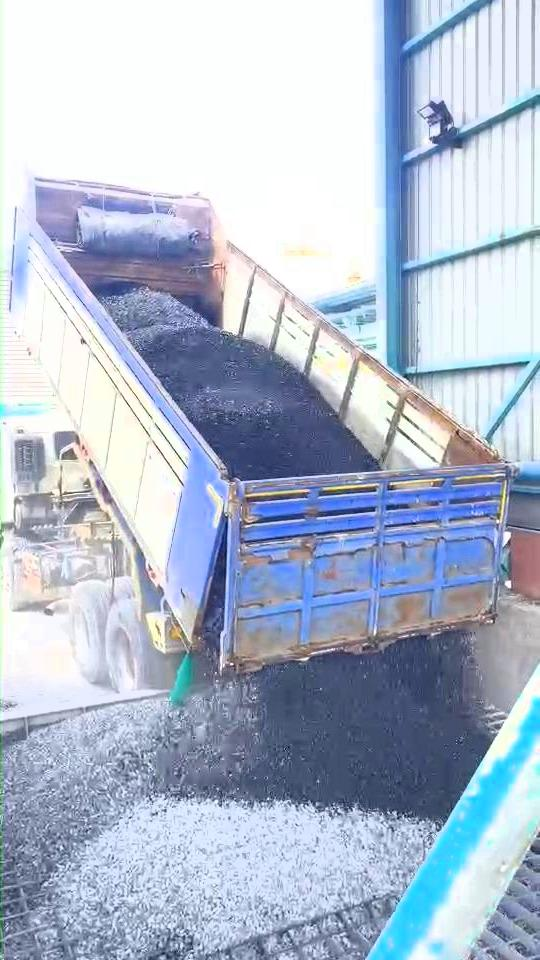gravel: (4, 637, 489, 959), (101, 287, 378, 479), (205, 550, 224, 656)
